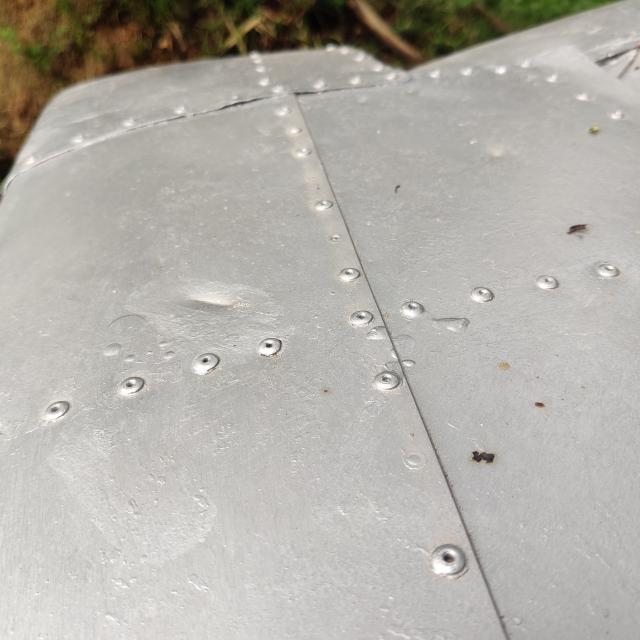dent: (160, 256, 265, 346)
